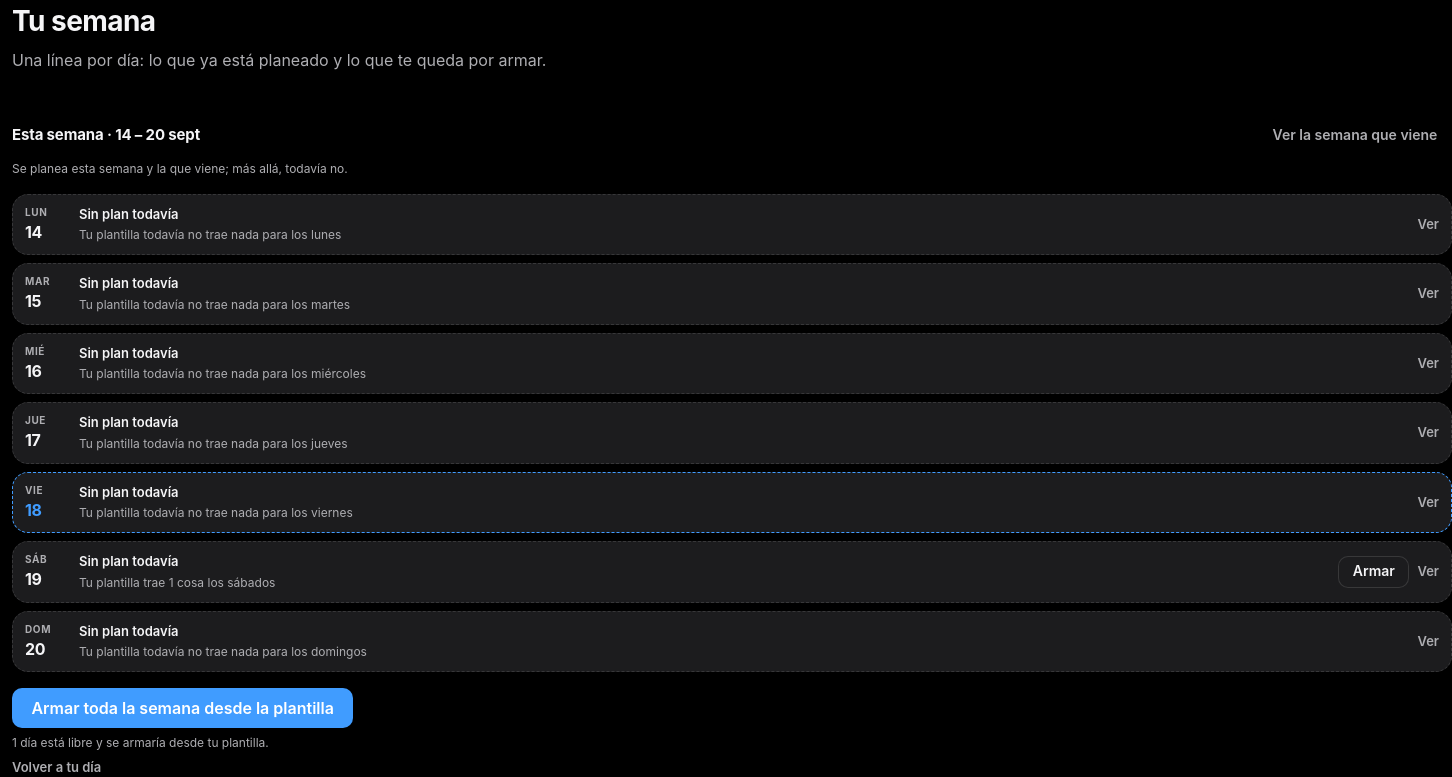
Scenario: VidaSemanaPage — el resumen nombra también los días que no dejaron nada › un día cuya plantilla no da bloques sale en el resumen (criterio 46)
Click the button "Armar": [1374, 572] box [1338,556,1410,588]
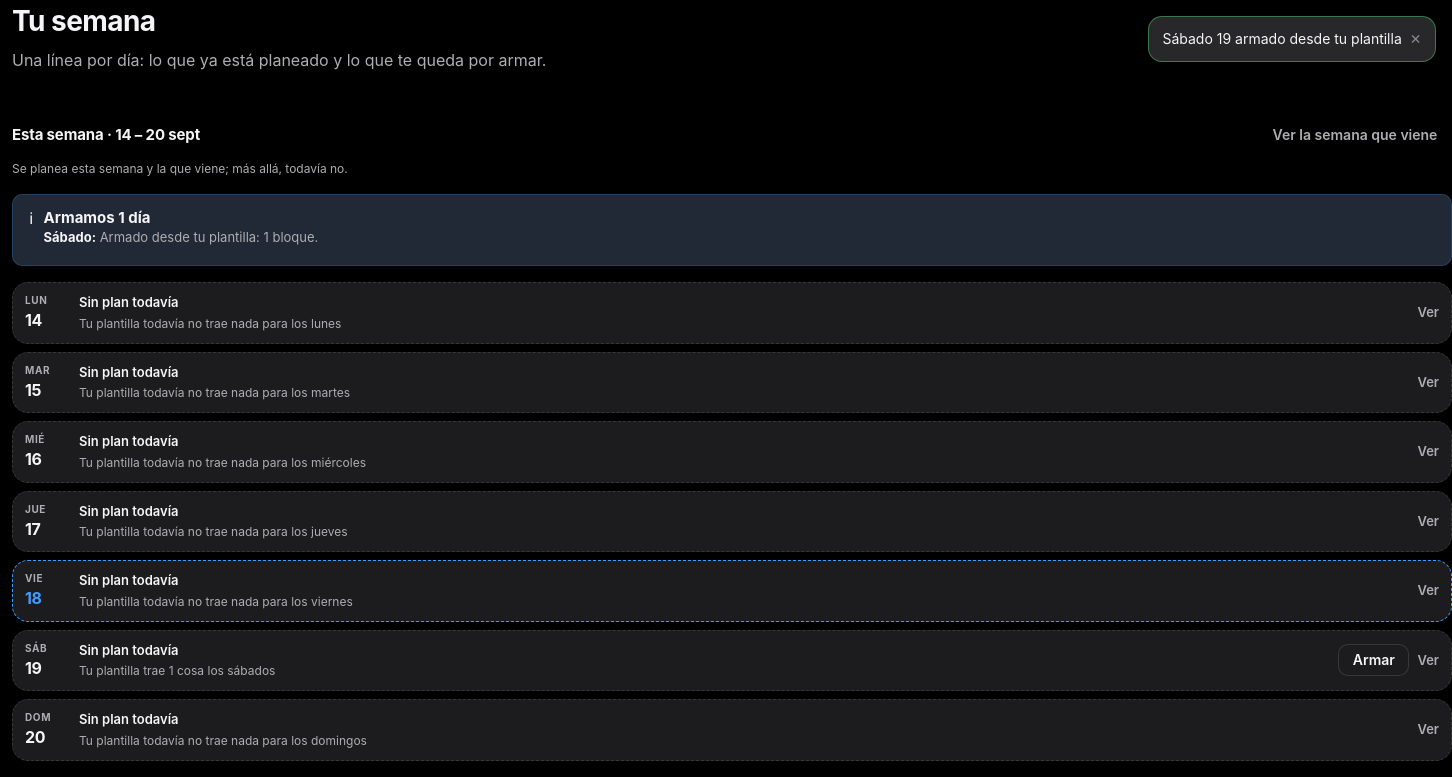
Result: the text "Armamos 1 día" is shown at [44,208,150,227]
